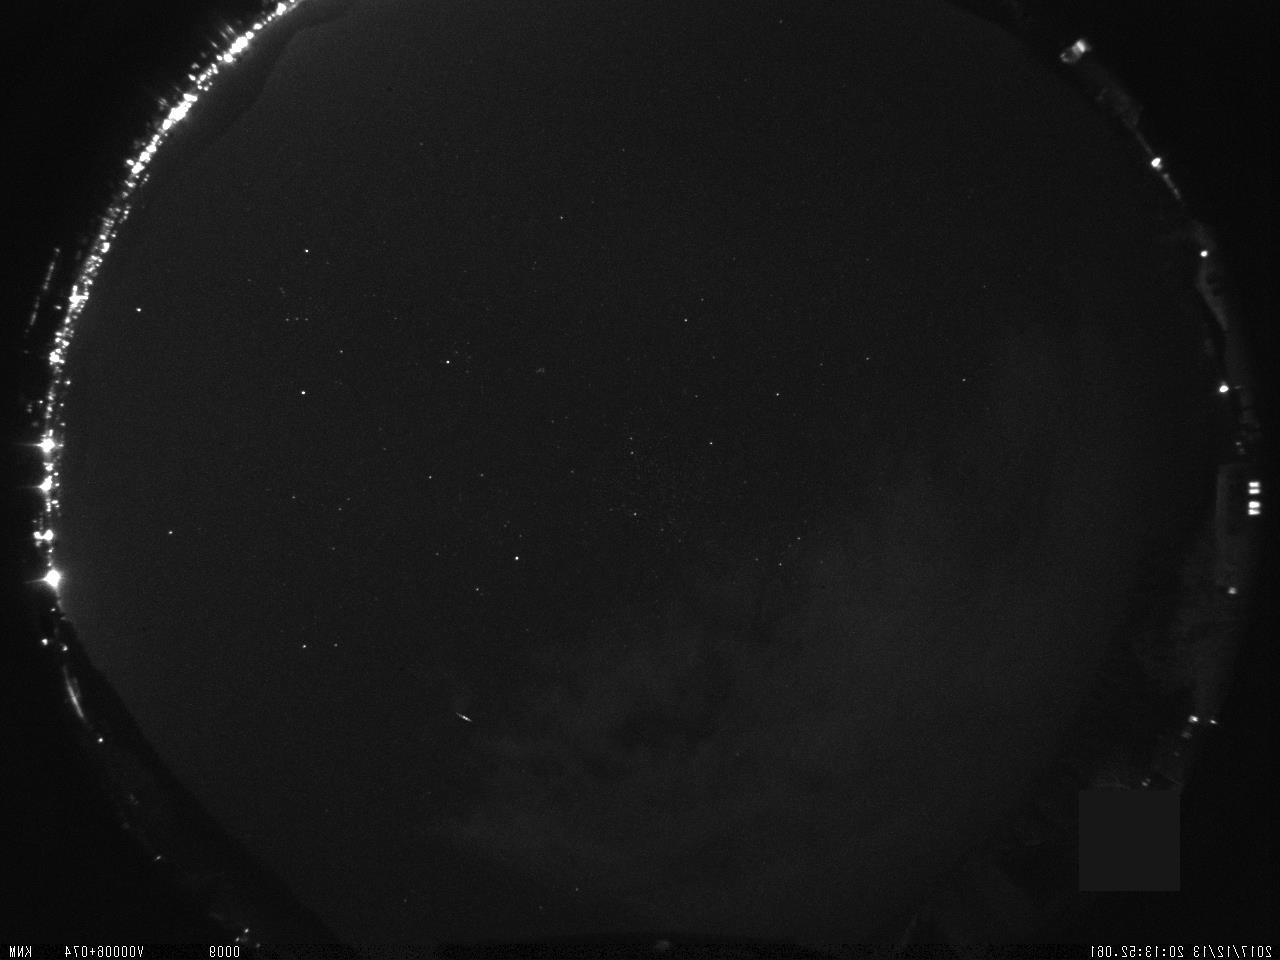meteor: (454, 710, 477, 729)
